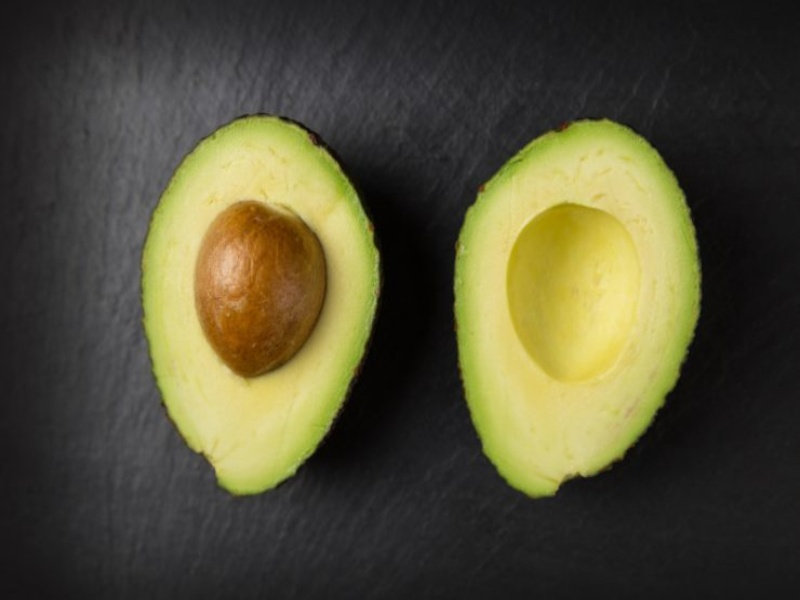Avocado_pit_BioD: (104, 86, 745, 531)
